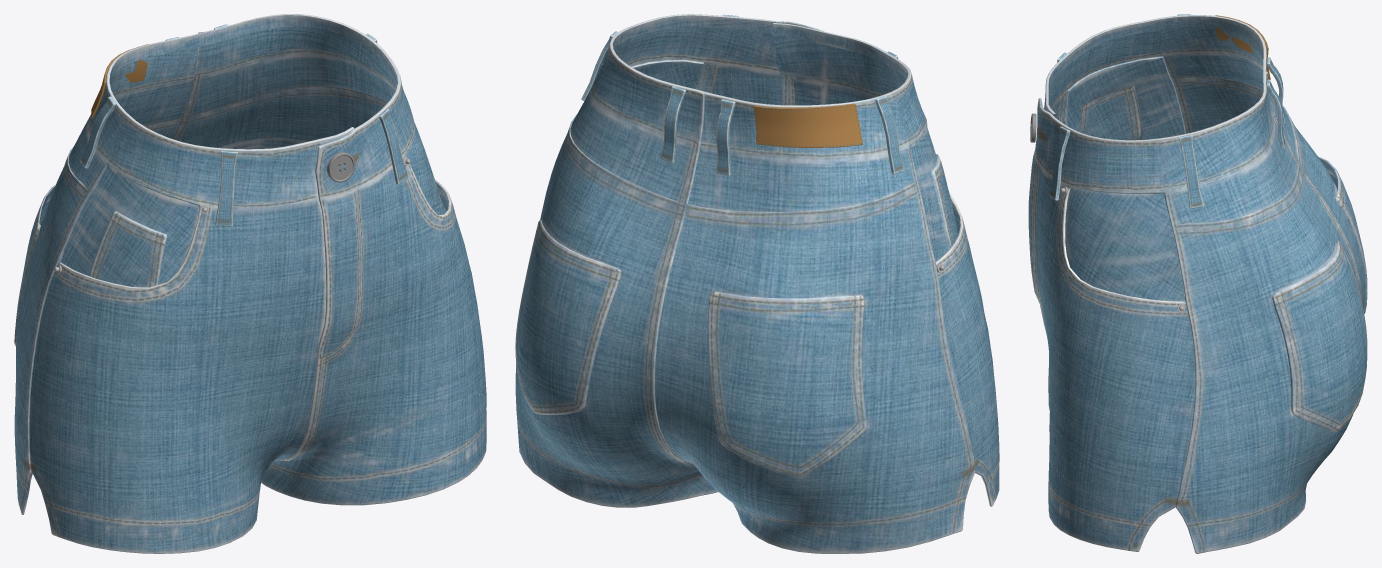
File: short_jeans.glb
3 renders of one model, left to right at view 1: azimuth 30°, elevation 25°; view 2: azimuth 150°, elevation 25°; view 3: azimuth 270°, elevation 25°, orthographic. The views are drawn at different scales.
Parts seen in each view (by area): view 1: short_jeans; view 2: short_jeans; view 3: short_jeans.
Part boxes in pixels (left/top/right/bottom): short_jeans: left=14, top=14, right=486, bottom=553; short_jeans: left=515, top=14, right=999, bottom=553; short_jeans: left=1028, top=14, right=1367, bottom=553.
Size of the model in its own units: 0.3591 by 0.3344 by 0.2552.
1 material, 1 textured.
